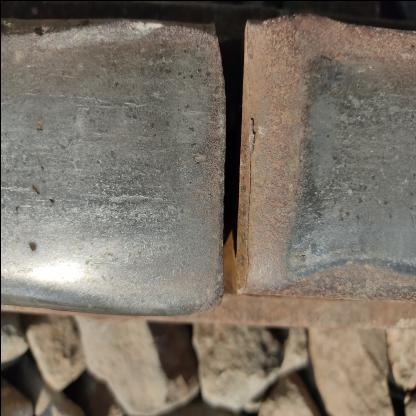Non Defective: (108, 1, 353, 343)
